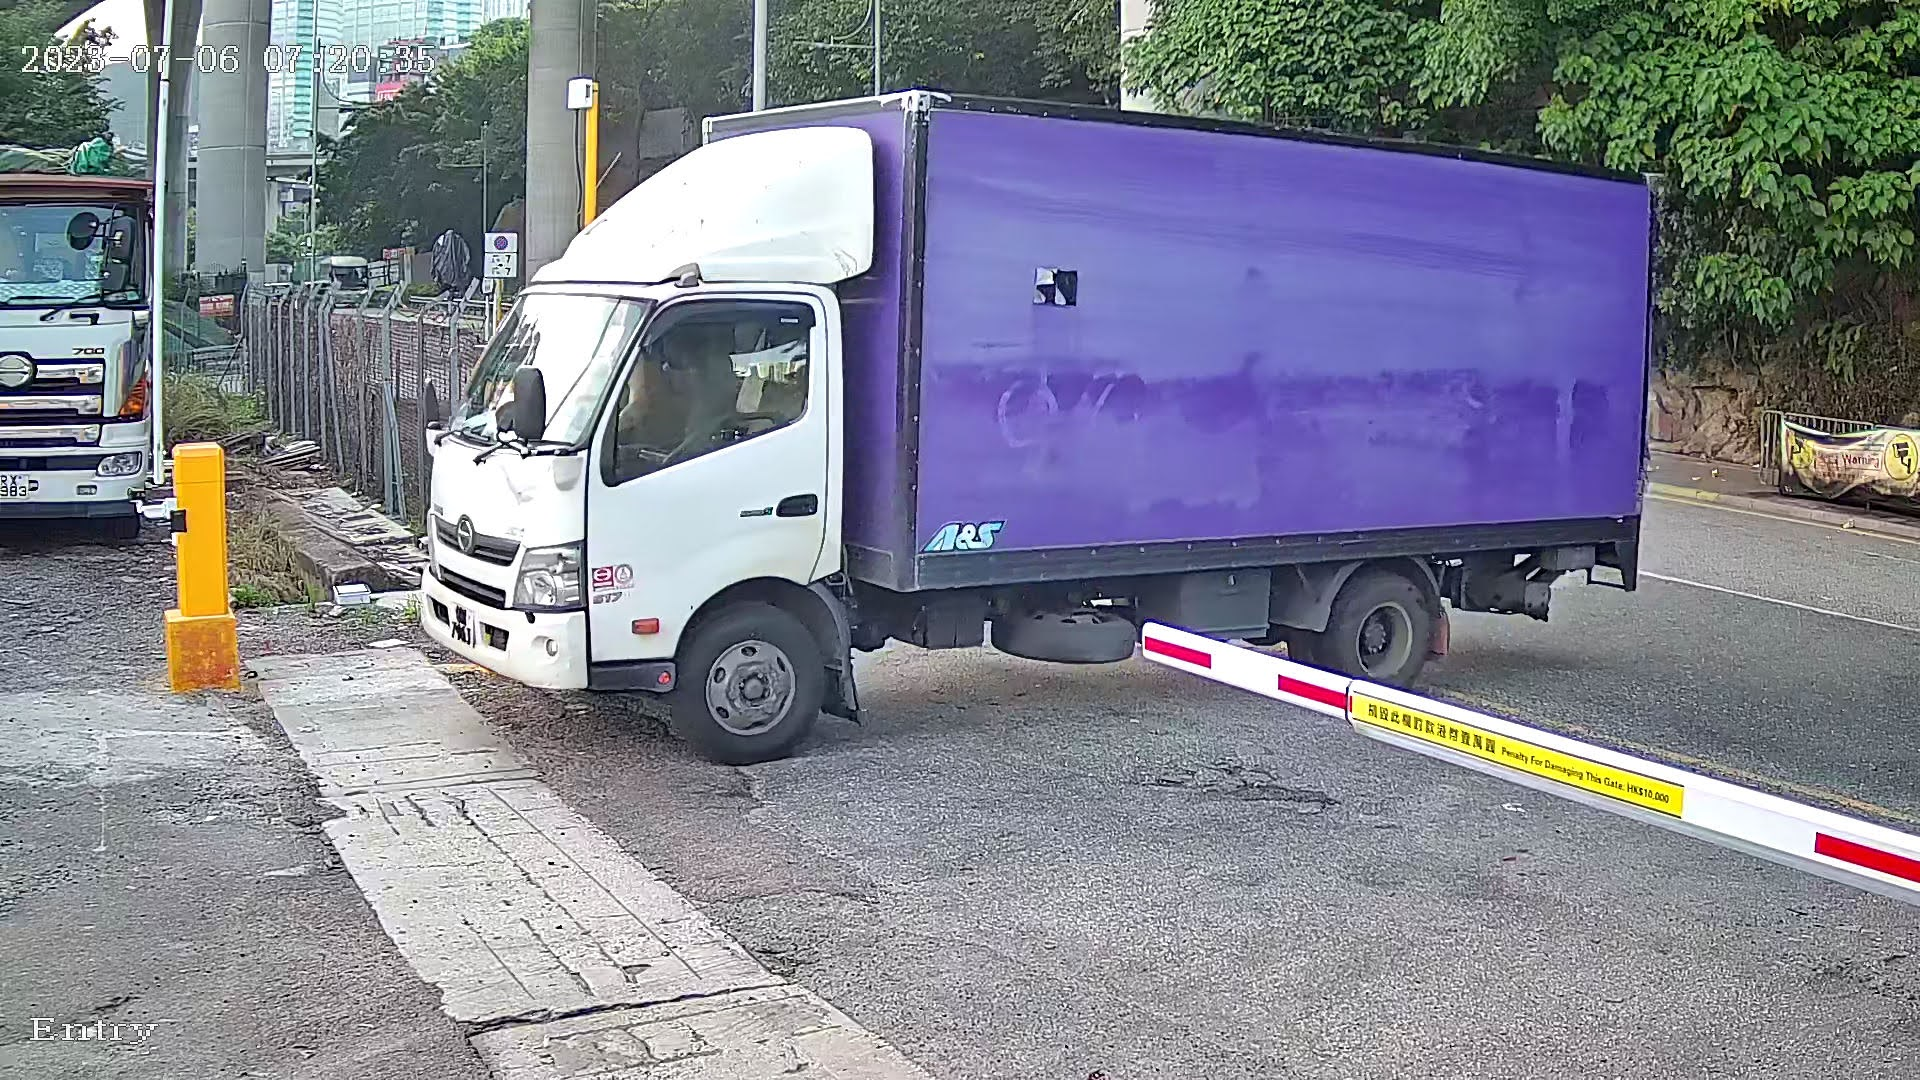truck: (377, 1, 1734, 781)
